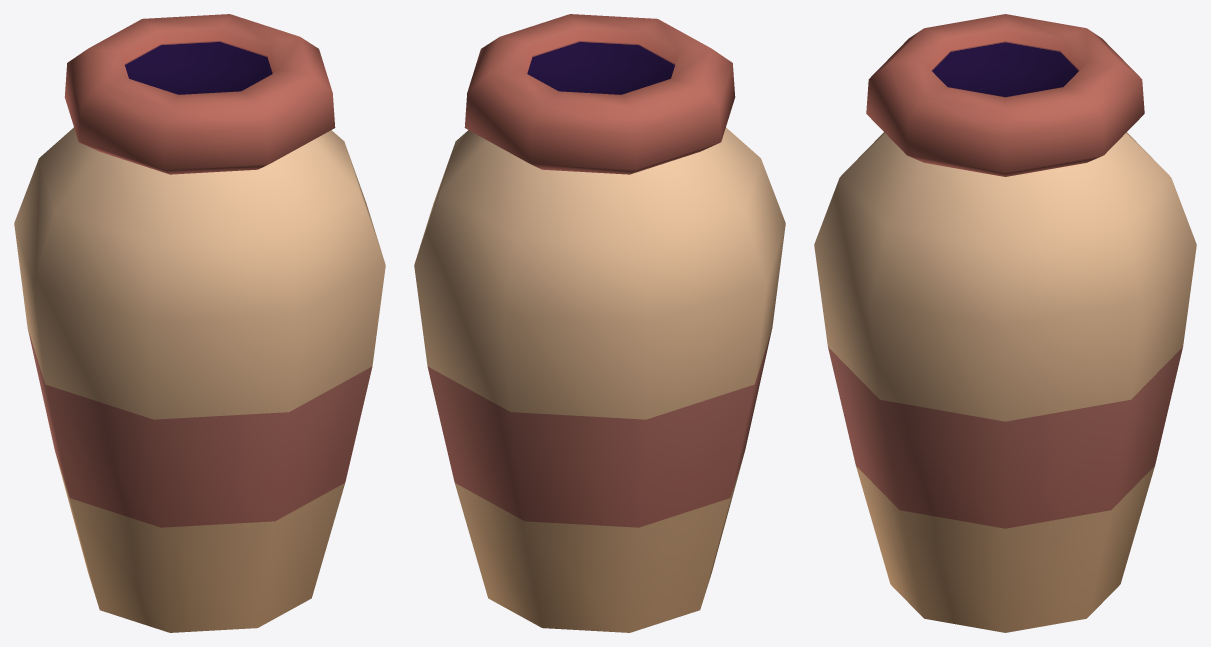
The model's file is Vase2.fbx.
3 renders of one model, left to right at view 1: azimuth 30°, elevation 25°; view 2: azimuth 150°, elevation 25°; view 3: azimuth 270°, elevation 25°, orthographic.
Parts seen in each view (by area): view 1: Vase2; view 2: Vase2; view 3: Vase2.
Boxes of the visible parts, left/top/right/bottom form: Vase2: left=14, top=14, right=385, bottom=632; Vase2: left=414, top=14, right=785, bottom=632; Vase2: left=814, top=14, right=1196, bottom=632.
Bounding box in the file's own units: 66.48 × 100 × 66.48.
